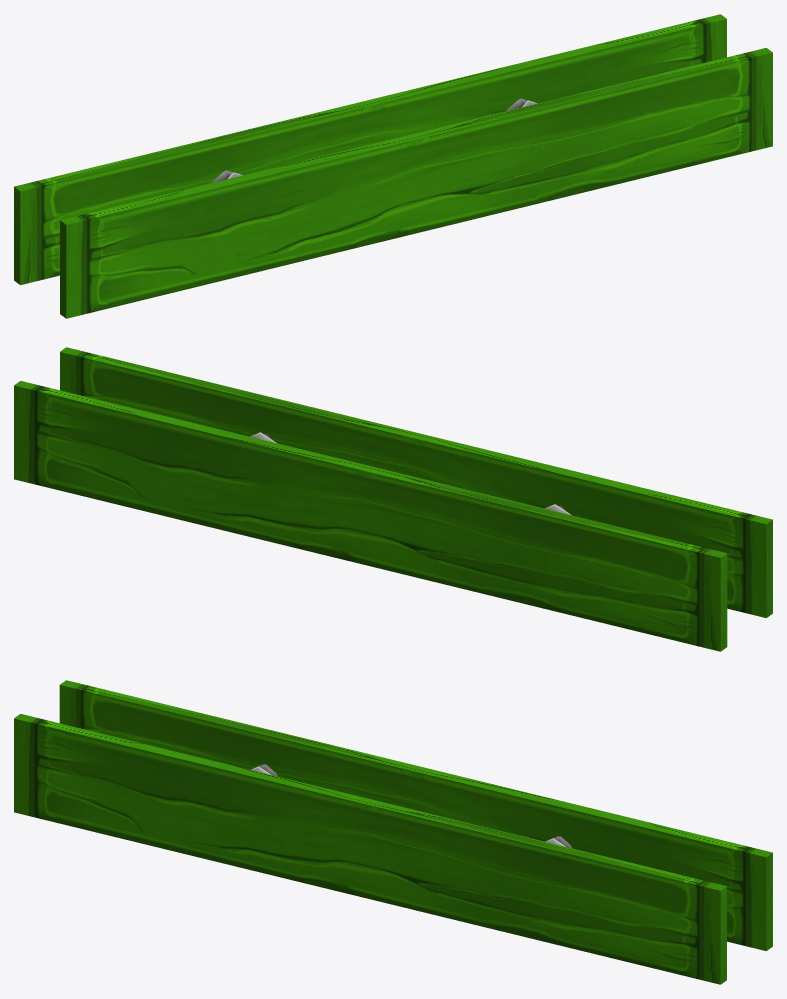
File: fence_green_04.fbx
The picture shows the model from 3 angles, top to bottom: view 1: azimuth 30°, elevation 25°; view 2: azimuth 150°, elevation 25°; view 3: azimuth 330°, elevation 25°; orthographic projection.
Visible parts, largest first — view 1: fence_green_04; view 2: fence_green_04; view 3: fence_green_04.
Part boxes in pixels (x1,y1,x2,y2): fence_green_04: (14,14,772,318); fence_green_04: (14,347,772,651); fence_green_04: (14,680,772,984).
Size of the model in its own units: 315 by 40 by 40.41.
